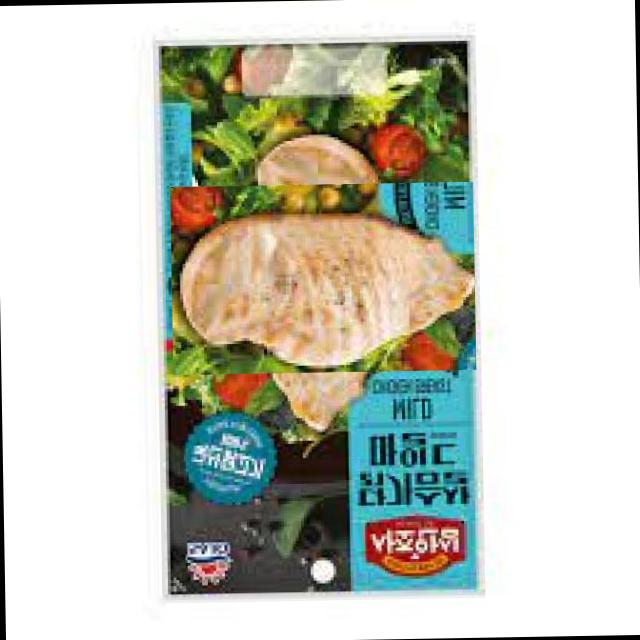chicken: (198, 152, 448, 402)
